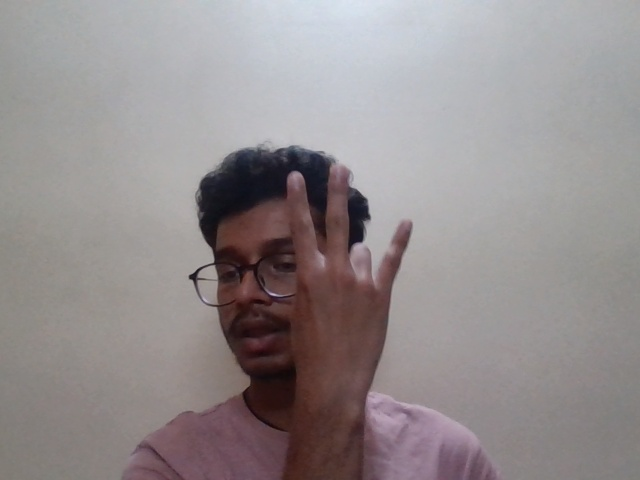why: (279, 159, 436, 381)
